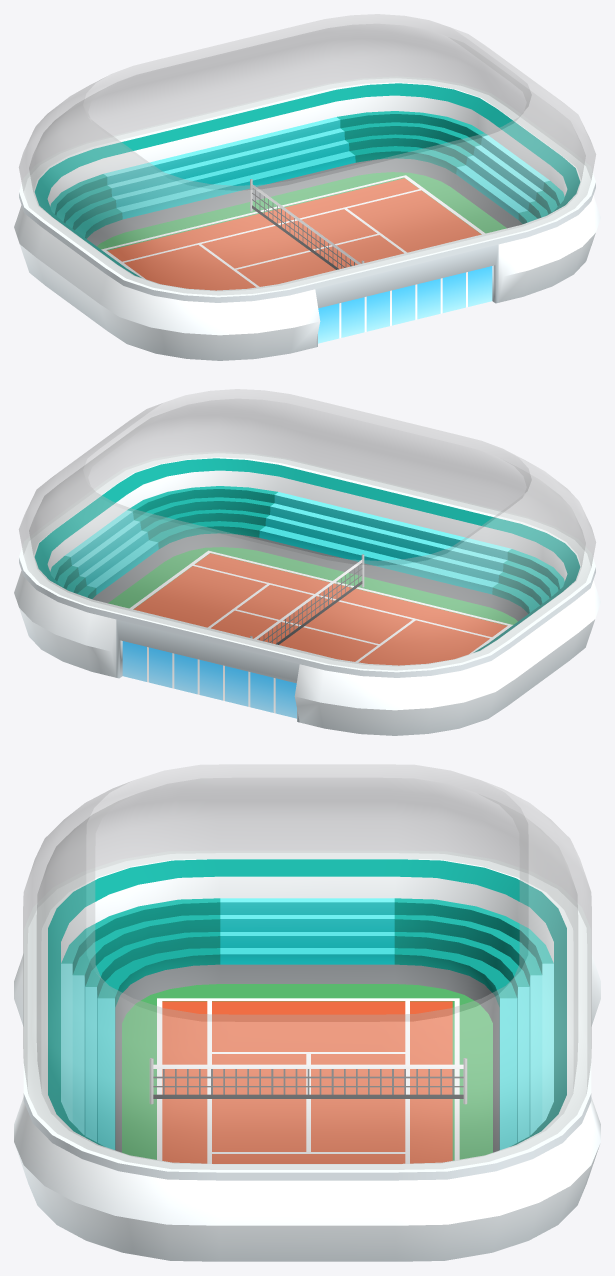
File: Stadium_07.glb
3 renders of one model, top to bottom at view 1: azimuth 30°, elevation 25°; view 2: azimuth 150°, elevation 25°; view 3: azimuth 270°, elevation 25°, orthographic. The views are drawn at different scales.
Visible parts, largest first — view 1: Stadium_07; view 2: Stadium_07; view 3: Stadium_07.
Boxes of the visible parts, <box> form: Stadium_07: <box>14,14,600,360</box>; Stadium_07: <box>14,389,600,735</box>; Stadium_07: <box>14,764,600,1261</box>.
Size of the model in its own units: 38.92 by 11.87 by 29.41.
2 materials, 2 textured.
